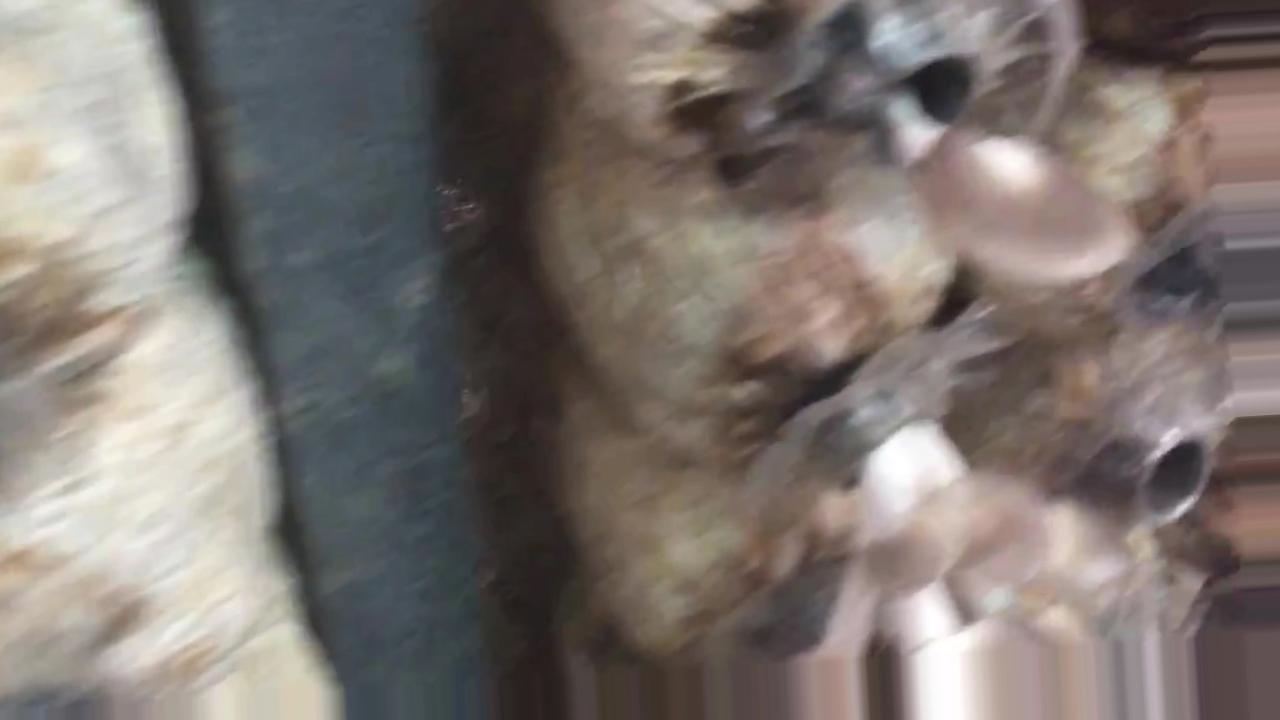nam: (795, 398, 1116, 720), (849, 24, 1149, 284)
